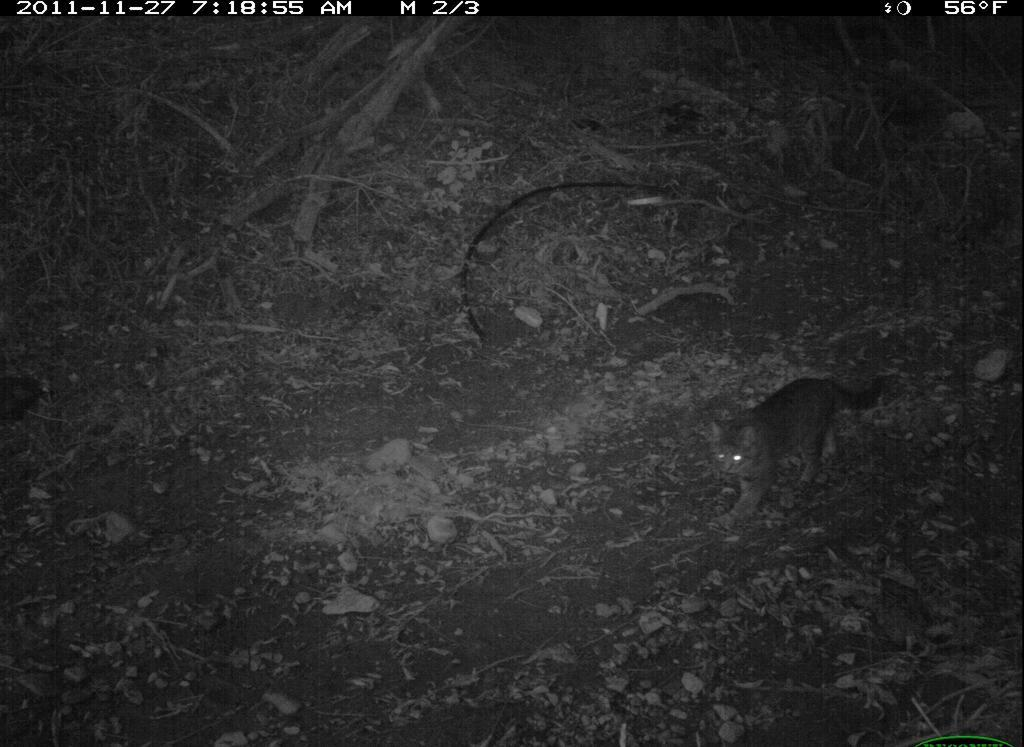cat: (708, 369, 900, 527)
